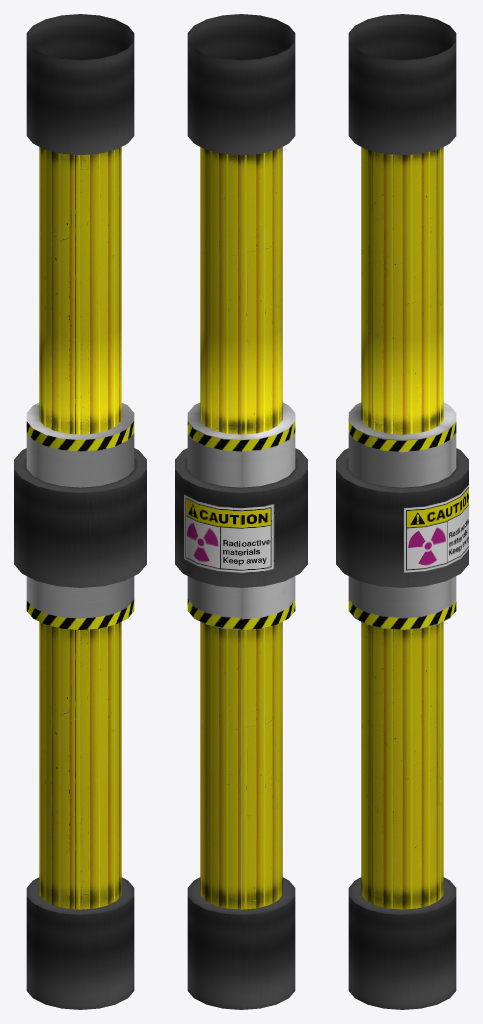
Rendered from RoomPipe.fbx.
The picture shows the model from 3 angles, left to right: view 1: azimuth 90°, elevation 25°; view 2: azimuth 210°, elevation 25°; view 3: azimuth 270°, elevation 25°; orthographic projection.
Parts seen in each view (by area): view 1: RoomPipe001; view 2: RoomPipe001; view 3: RoomPipe001.
Boxes of the visible parts, x1,y1,x2,y2 form: RoomPipe001: [14, 14, 146, 1009]; RoomPipe001: [175, 14, 307, 1009]; RoomPipe001: [336, 14, 468, 1009].
Bounding box in the file's own units: 81.75 × 635 × 80.51.
Materials: 1 (1 with a texture image).
